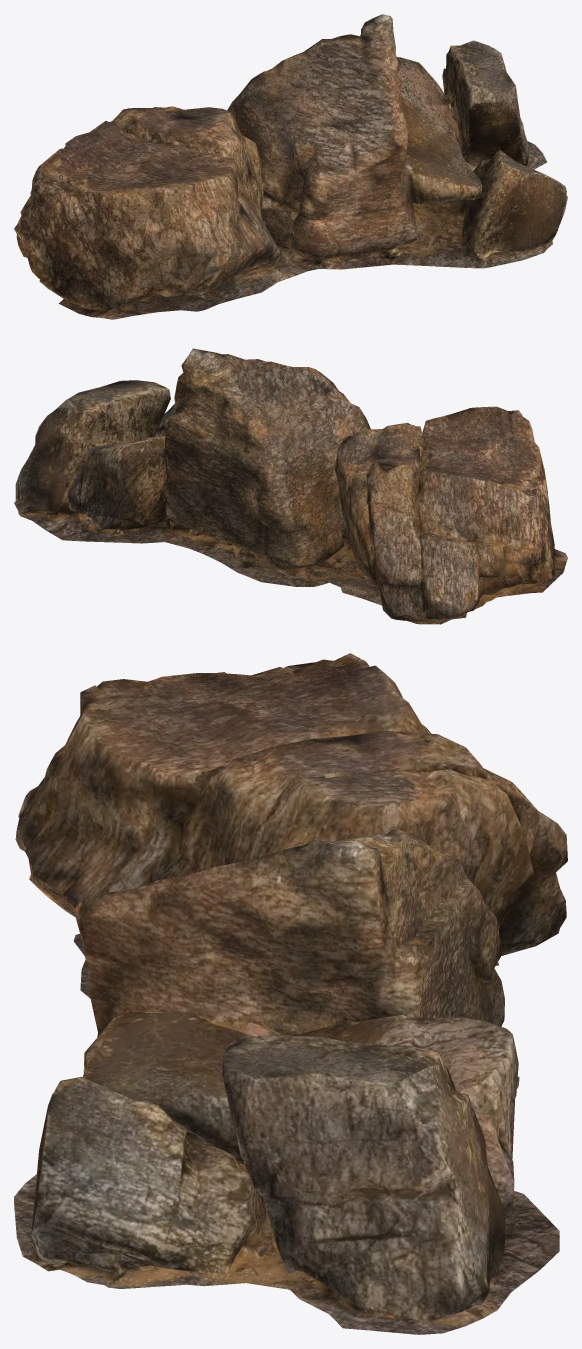
The model's file is namaqualand_boulder_02.light.glb.
The picture shows the model from 3 angles, top to bottom: view 1: azimuth 30°, elevation 25°; view 2: azimuth 150°, elevation 25°; view 3: azimuth 270°, elevation 25°; orthographic projection. The views are drawn at different scales.
Parts seen in each view (by area): view 1: boulder_02; view 2: boulder_02; view 3: boulder_02.
Part boxes in pixels (<box>): boulder_02: <box>14,14,567,319</box>; boulder_02: <box>14,348,567,624</box>; boulder_02: <box>14,653,567,1334</box>.
Bounding box in the file's own units: 1.99 × 0.6953 × 0.9702.
1 material, 1 textured.
